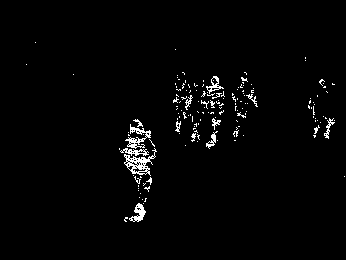person: (119, 120, 158, 222), (231, 72, 259, 141), (202, 76, 224, 149), (188, 78, 207, 144), (172, 72, 190, 132), (309, 76, 324, 138)
